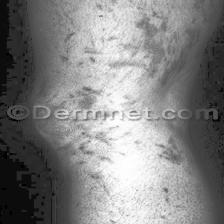Benign Marking or Mole: (120, 12, 194, 85), (78, 124, 126, 192), (54, 26, 106, 64), (61, 87, 139, 108), (147, 136, 192, 172), (155, 186, 180, 206)
